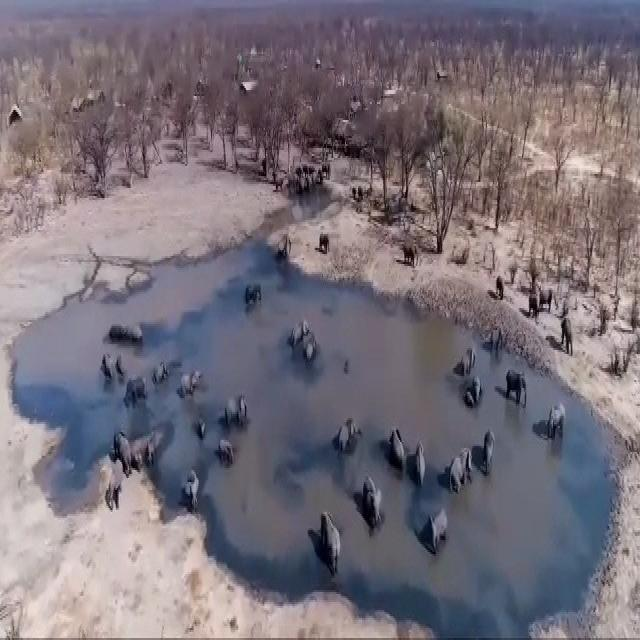Elephant: (319, 505, 349, 577), (424, 503, 452, 564), (448, 443, 472, 499), (102, 465, 126, 519), (334, 413, 366, 453), (221, 384, 250, 428), (360, 482, 387, 529), (504, 368, 530, 410), (182, 476, 205, 521), (113, 425, 140, 463), (558, 318, 580, 362), (546, 404, 570, 444), (102, 347, 128, 381), (391, 419, 405, 479), (456, 339, 477, 374), (484, 429, 498, 478), (416, 438, 430, 482), (313, 226, 335, 254), (195, 413, 212, 448), (180, 372, 201, 400), (243, 275, 263, 304), (290, 316, 307, 348), (470, 378, 486, 408), (218, 436, 234, 464), (152, 356, 169, 382), (304, 337, 318, 366), (532, 290, 544, 319), (539, 289, 558, 305), (499, 276, 507, 310), (405, 244, 415, 269)
